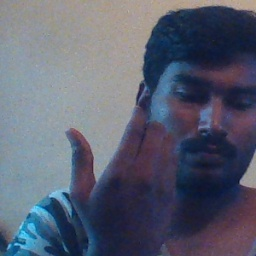U: (64, 97, 172, 224)
